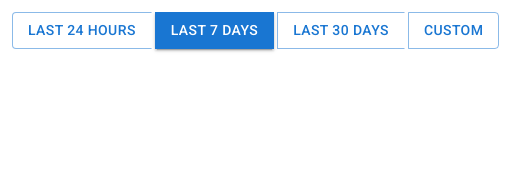
it: shows all period labels in English
Expected: the element named "History period" is shown, [12,12,499,48]
Expected: the button "Last 24 hours" is shown, [12,12,152,48]
Step 1. Click the button "Custom" → (454, 30), box [408,12,499,48]
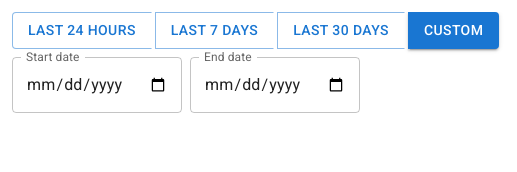
Expected: the date field labelled "Start date" is shown, [12,56,182,112]
Expected: the date field labelled "End date" is shown, [190,56,360,112]
